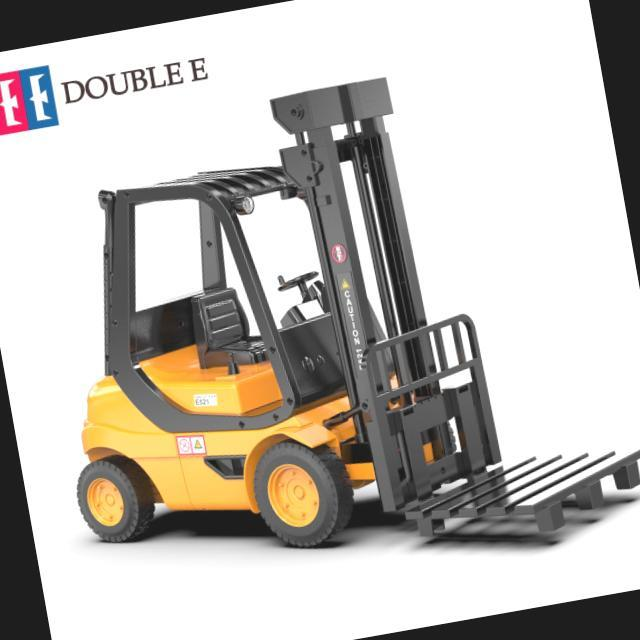forklift: (1, 55, 520, 592)
